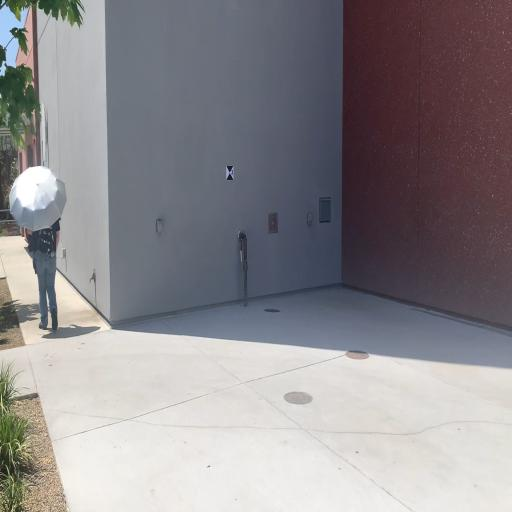target3: (226, 165, 234, 181)
